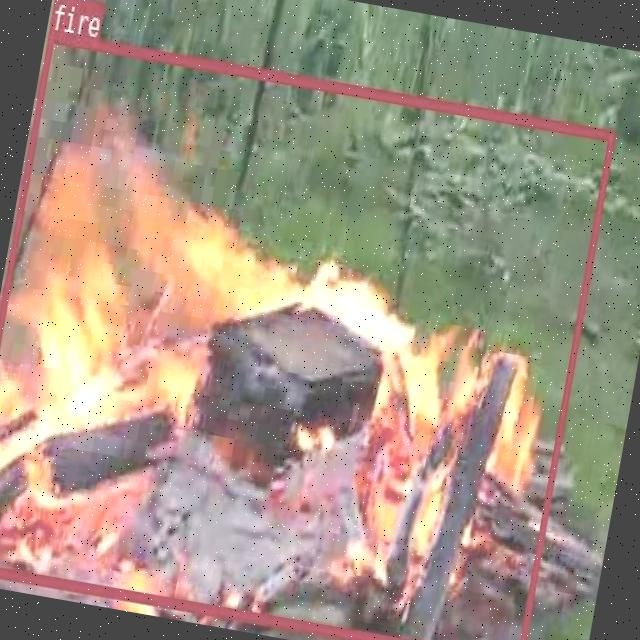fire: (0, 29, 614, 640)
